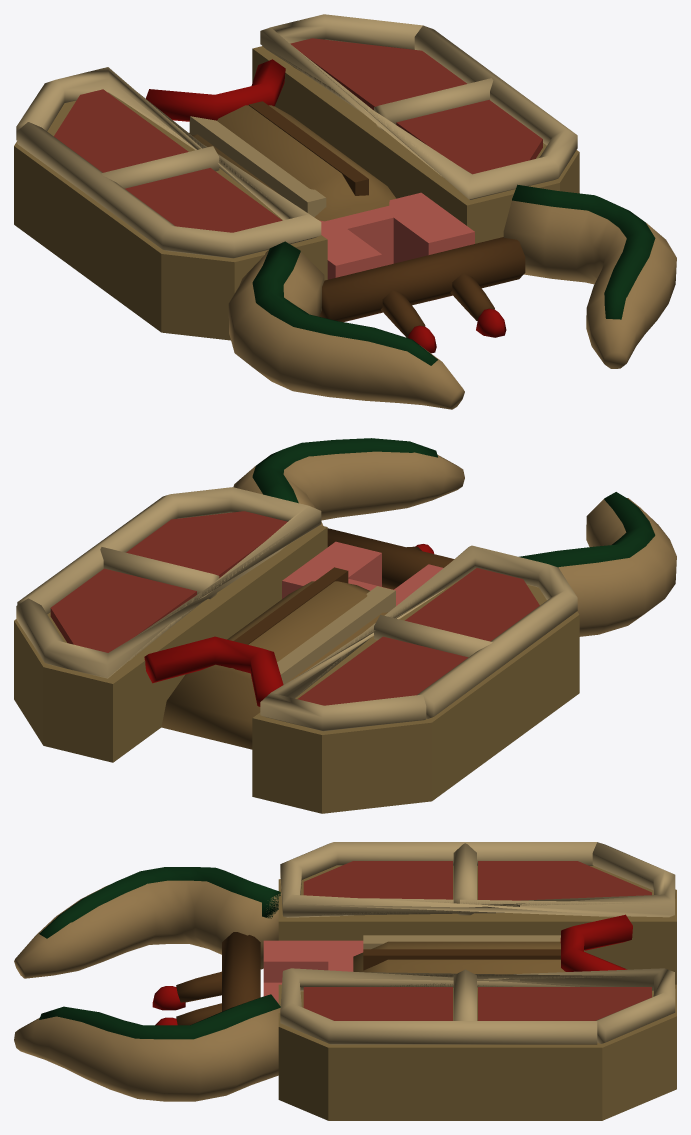
File: newshd-16.glb
The picture shows the model from 3 angles, top to bottom: view 1: azimuth 30°, elevation 25°; view 2: azimuth 150°, elevation 25°; view 3: azimuth 270°, elevation 25°; orthographic projection. The views are drawn at different scales.
Visible parts, largest first — view 1: newshd-16; view 2: newshd-16; view 3: newshd-16.
Boxes of the visible parts, left/top/right/bottom form: newshd-16: left=14, top=14, right=676, bottom=409; newshd-16: left=14, top=438, right=676, bottom=813; newshd-16: left=14, top=842, right=676, bottom=1120.
Bounding box in the file's own units: 1.5 × 0.35 × 2.22.
